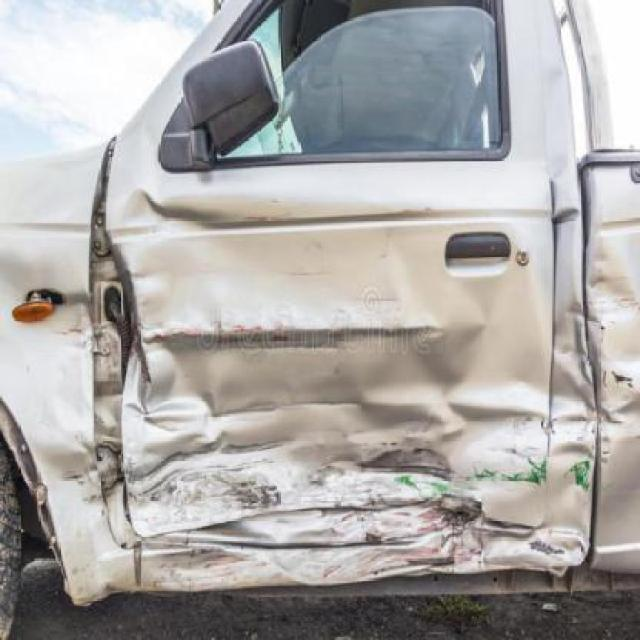doorouter-dent: (118, 117, 534, 590)
fender-dent: (2, 152, 112, 588)
